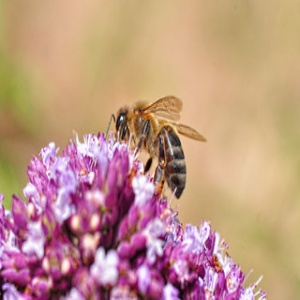bee: (103, 93, 212, 210)
